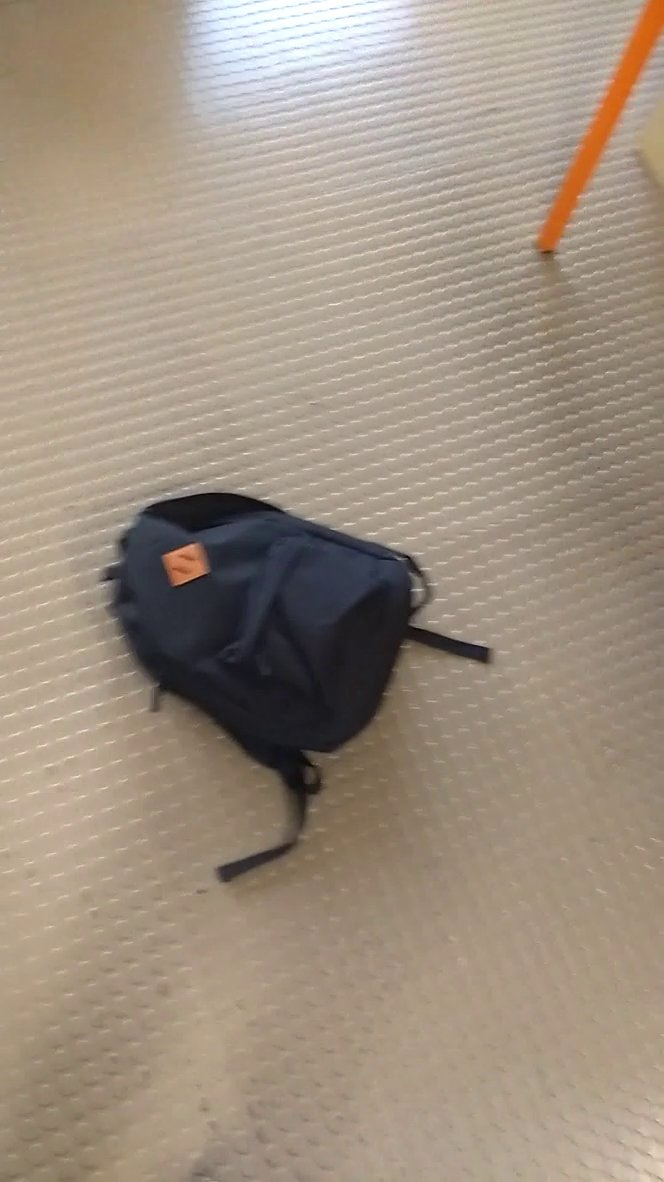bag: (93, 484, 520, 890)
